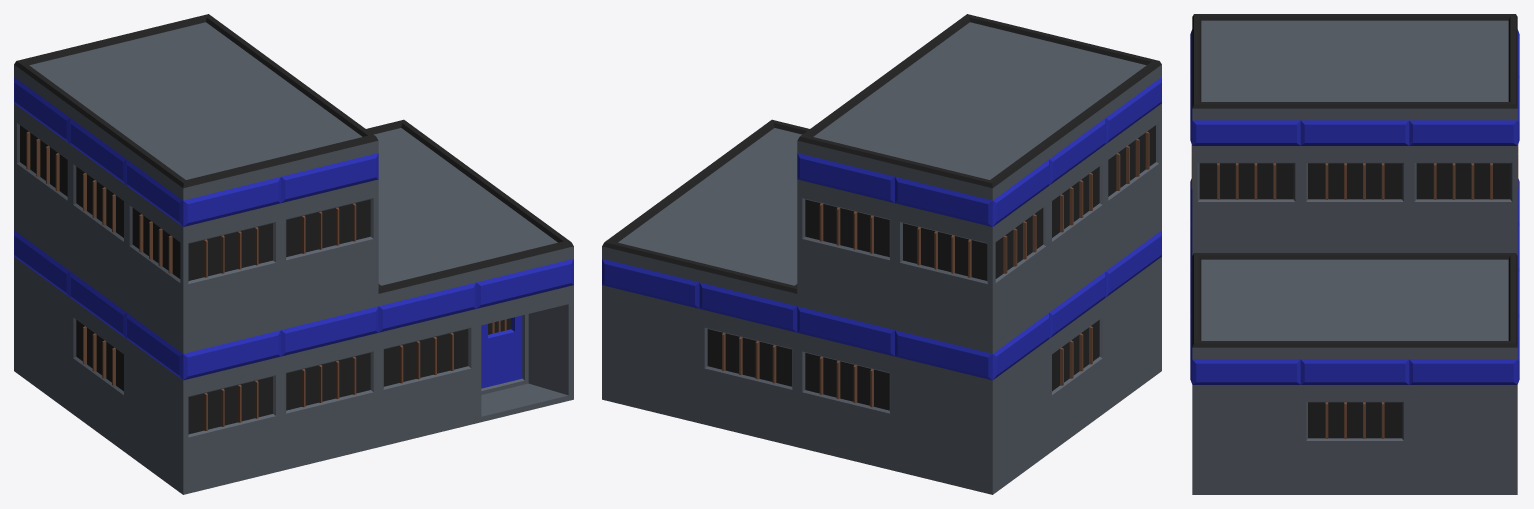
File: Building6.fbx
The picture shows the model from 3 angles, left to right: view 1: azimuth 30°, elevation 25°; view 2: azimuth 150°, elevation 25°; view 3: azimuth 270°, elevation 25°; orthographic projection. The views are drawn at different scales.
Visible parts, largest first — view 1: Building6; view 2: Building6; view 3: Building6.
Part boxes in pixels (left/top/right/bottom): Building6: left=14, top=14, right=573, bottom=494; Building6: left=602, top=14, right=1161, bottom=494; Building6: left=1190, top=14, right=1519, bottom=494.
Size of the model in its own units: 807 by 607 by 607.
